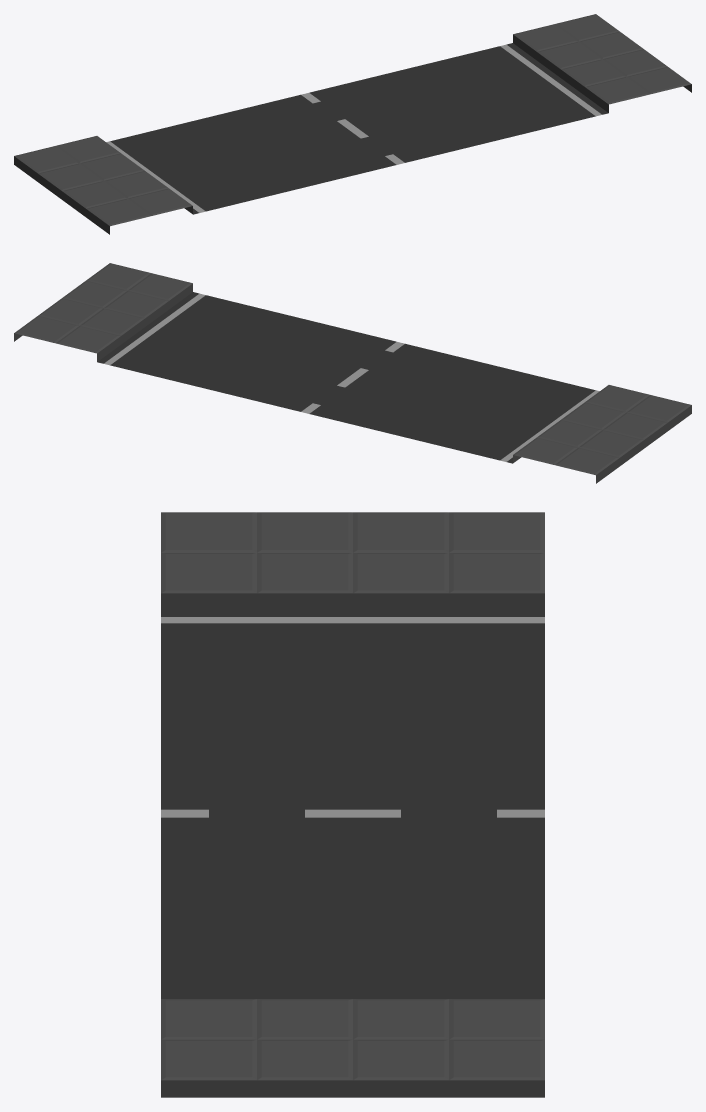
Rendered from Road x4.fbx.
3 views of the same model, one above another, from view 1: azimuth 30°, elevation 25°; view 2: azimuth 150°, elevation 25°; view 3: azimuth 270°, elevation 25° (orthographic). The views are drawn at different scales.
Parts seen in each view (by area): view 1: Cube; view 2: Cube; view 3: Cube.
Boxes of the visible parts, box(x1,y1,x2,y2) form: Cube: box(14, 14, 691, 234); Cube: box(14, 263, 691, 483); Cube: box(161, 512, 544, 1097).
Bounding box in the file's own units: 1400 × 21 × 400.
